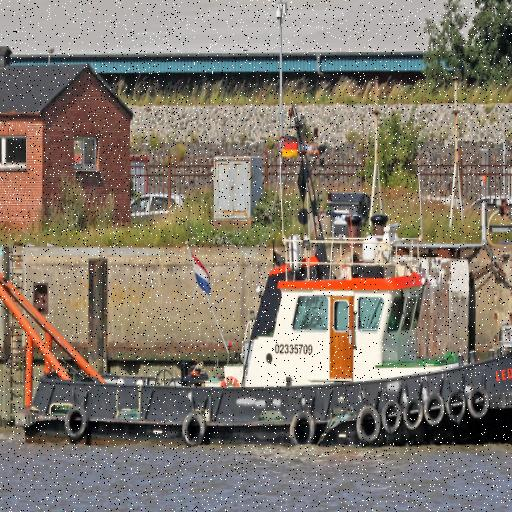tugboat: (1, 188, 512, 468)
